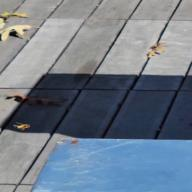Bee: (9, 122, 37, 133)
